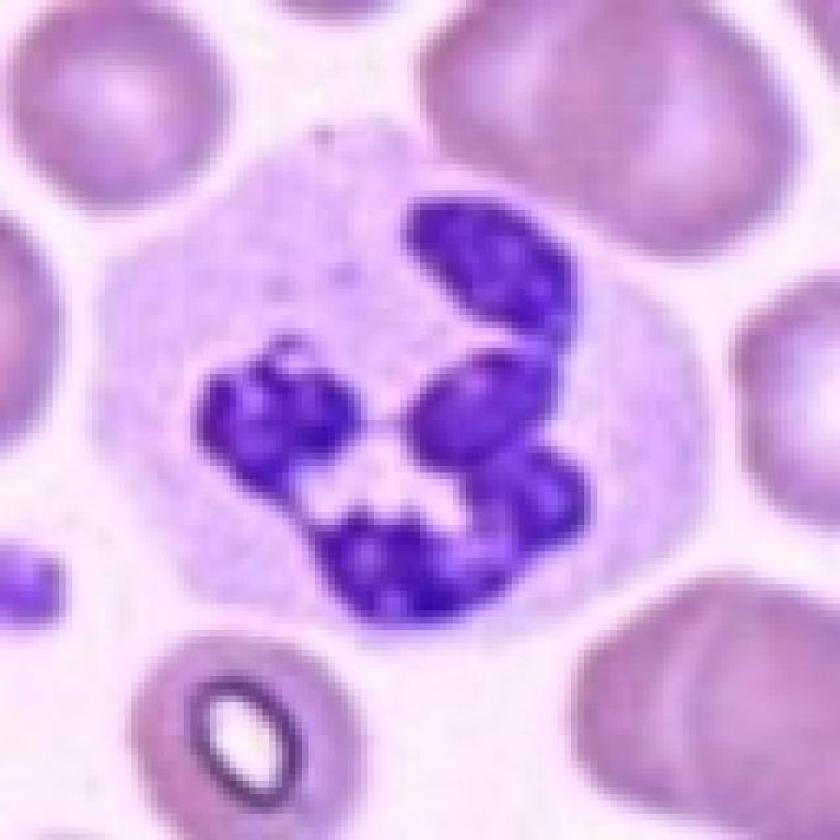neutrophil: (96, 118, 721, 654)
